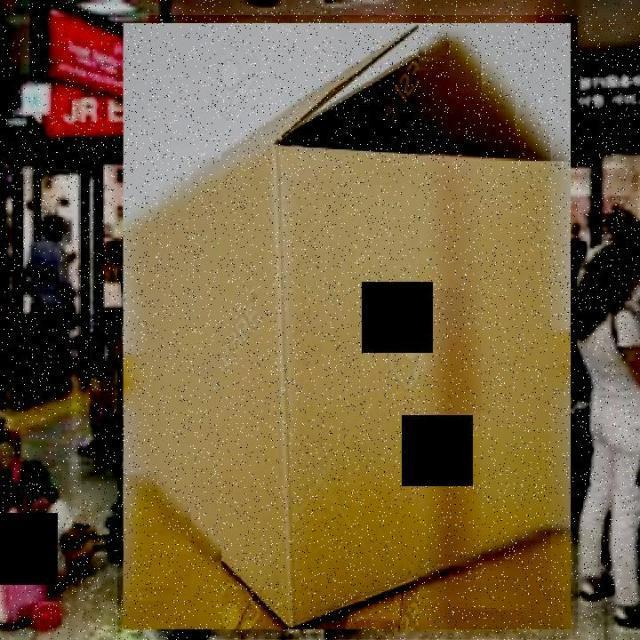box: (117, 15, 578, 639)
